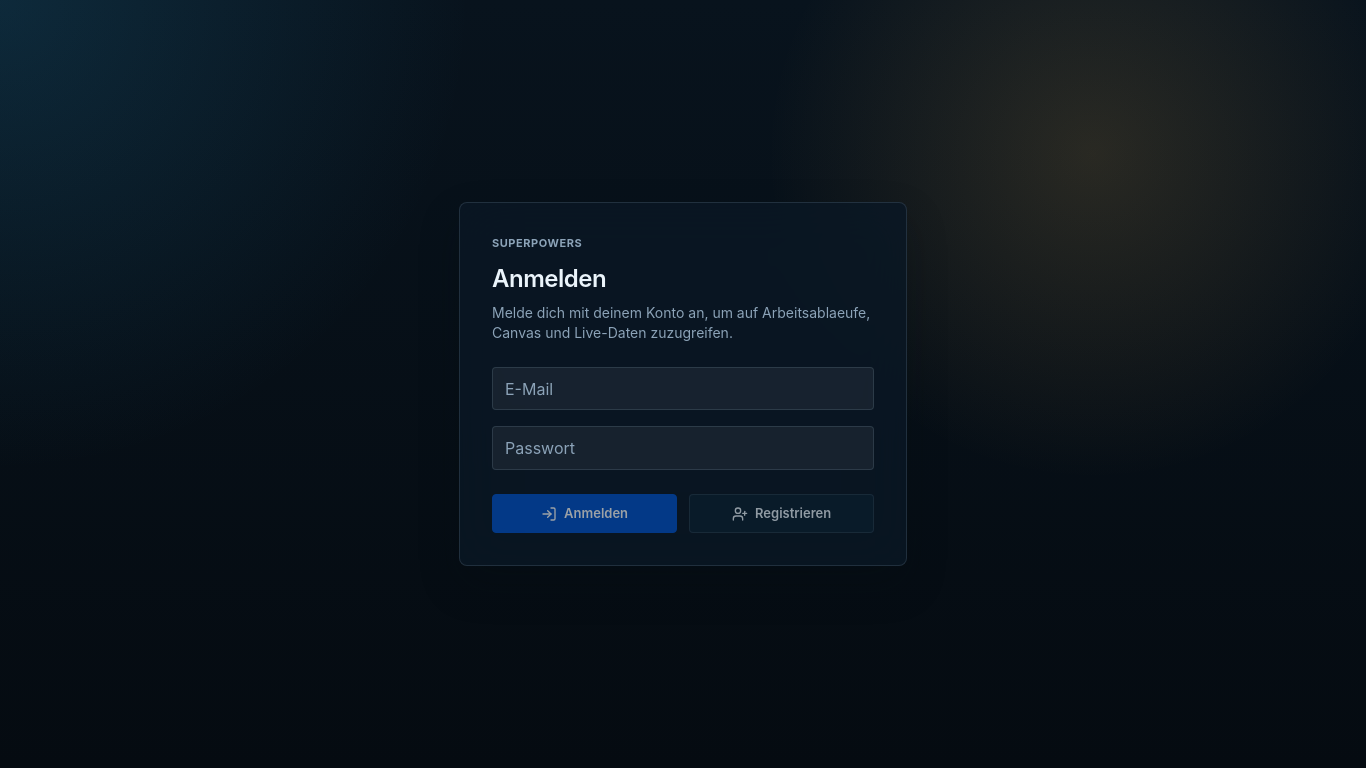
Test: AuthScreen › keeps sign-in disabled until email and password are present
Expected: the button with test id "auth-signin" is disabled, [492,494,677,533]
Type "2@derwilkens.de" into the field with test id "auth-email" at {"x": 683, "y": 389}, box [492,367,874,410]
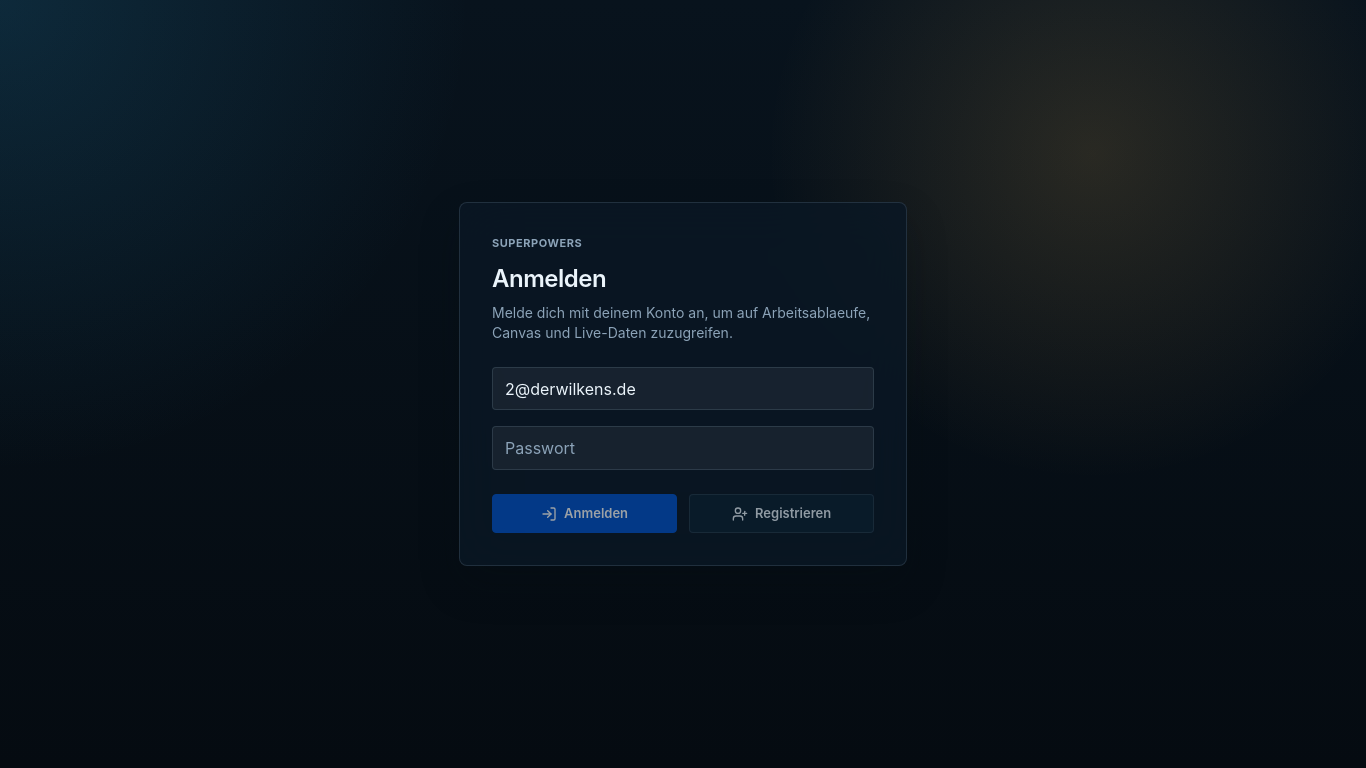
Expected: the button with test id "auth-signin" is disabled, [492,494,677,533]
Type "Wilkens:)" into the password field with test id "auth-password" at {"x": 683, "y": 448}, box [492,426,874,470]
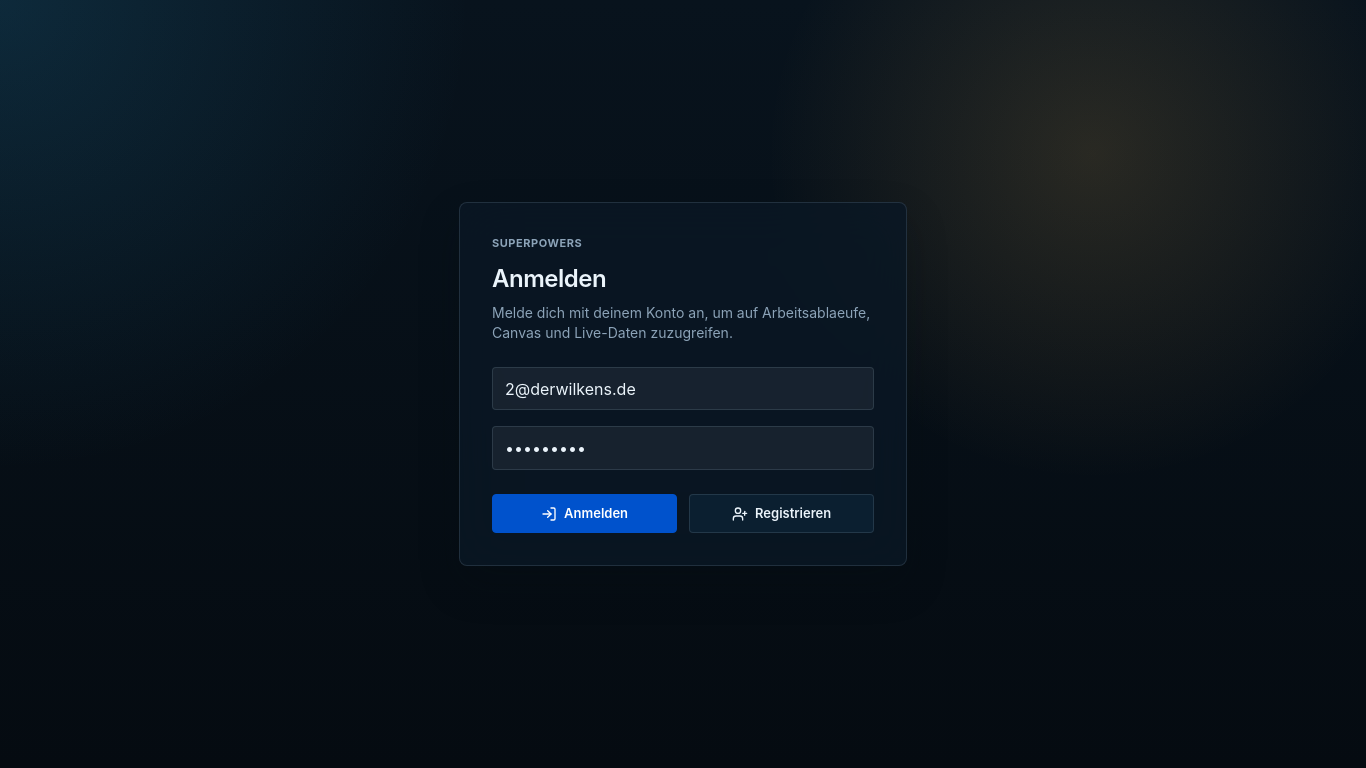
Result: the button with test id "auth-signin" is enabled at [492,494,677,533]
